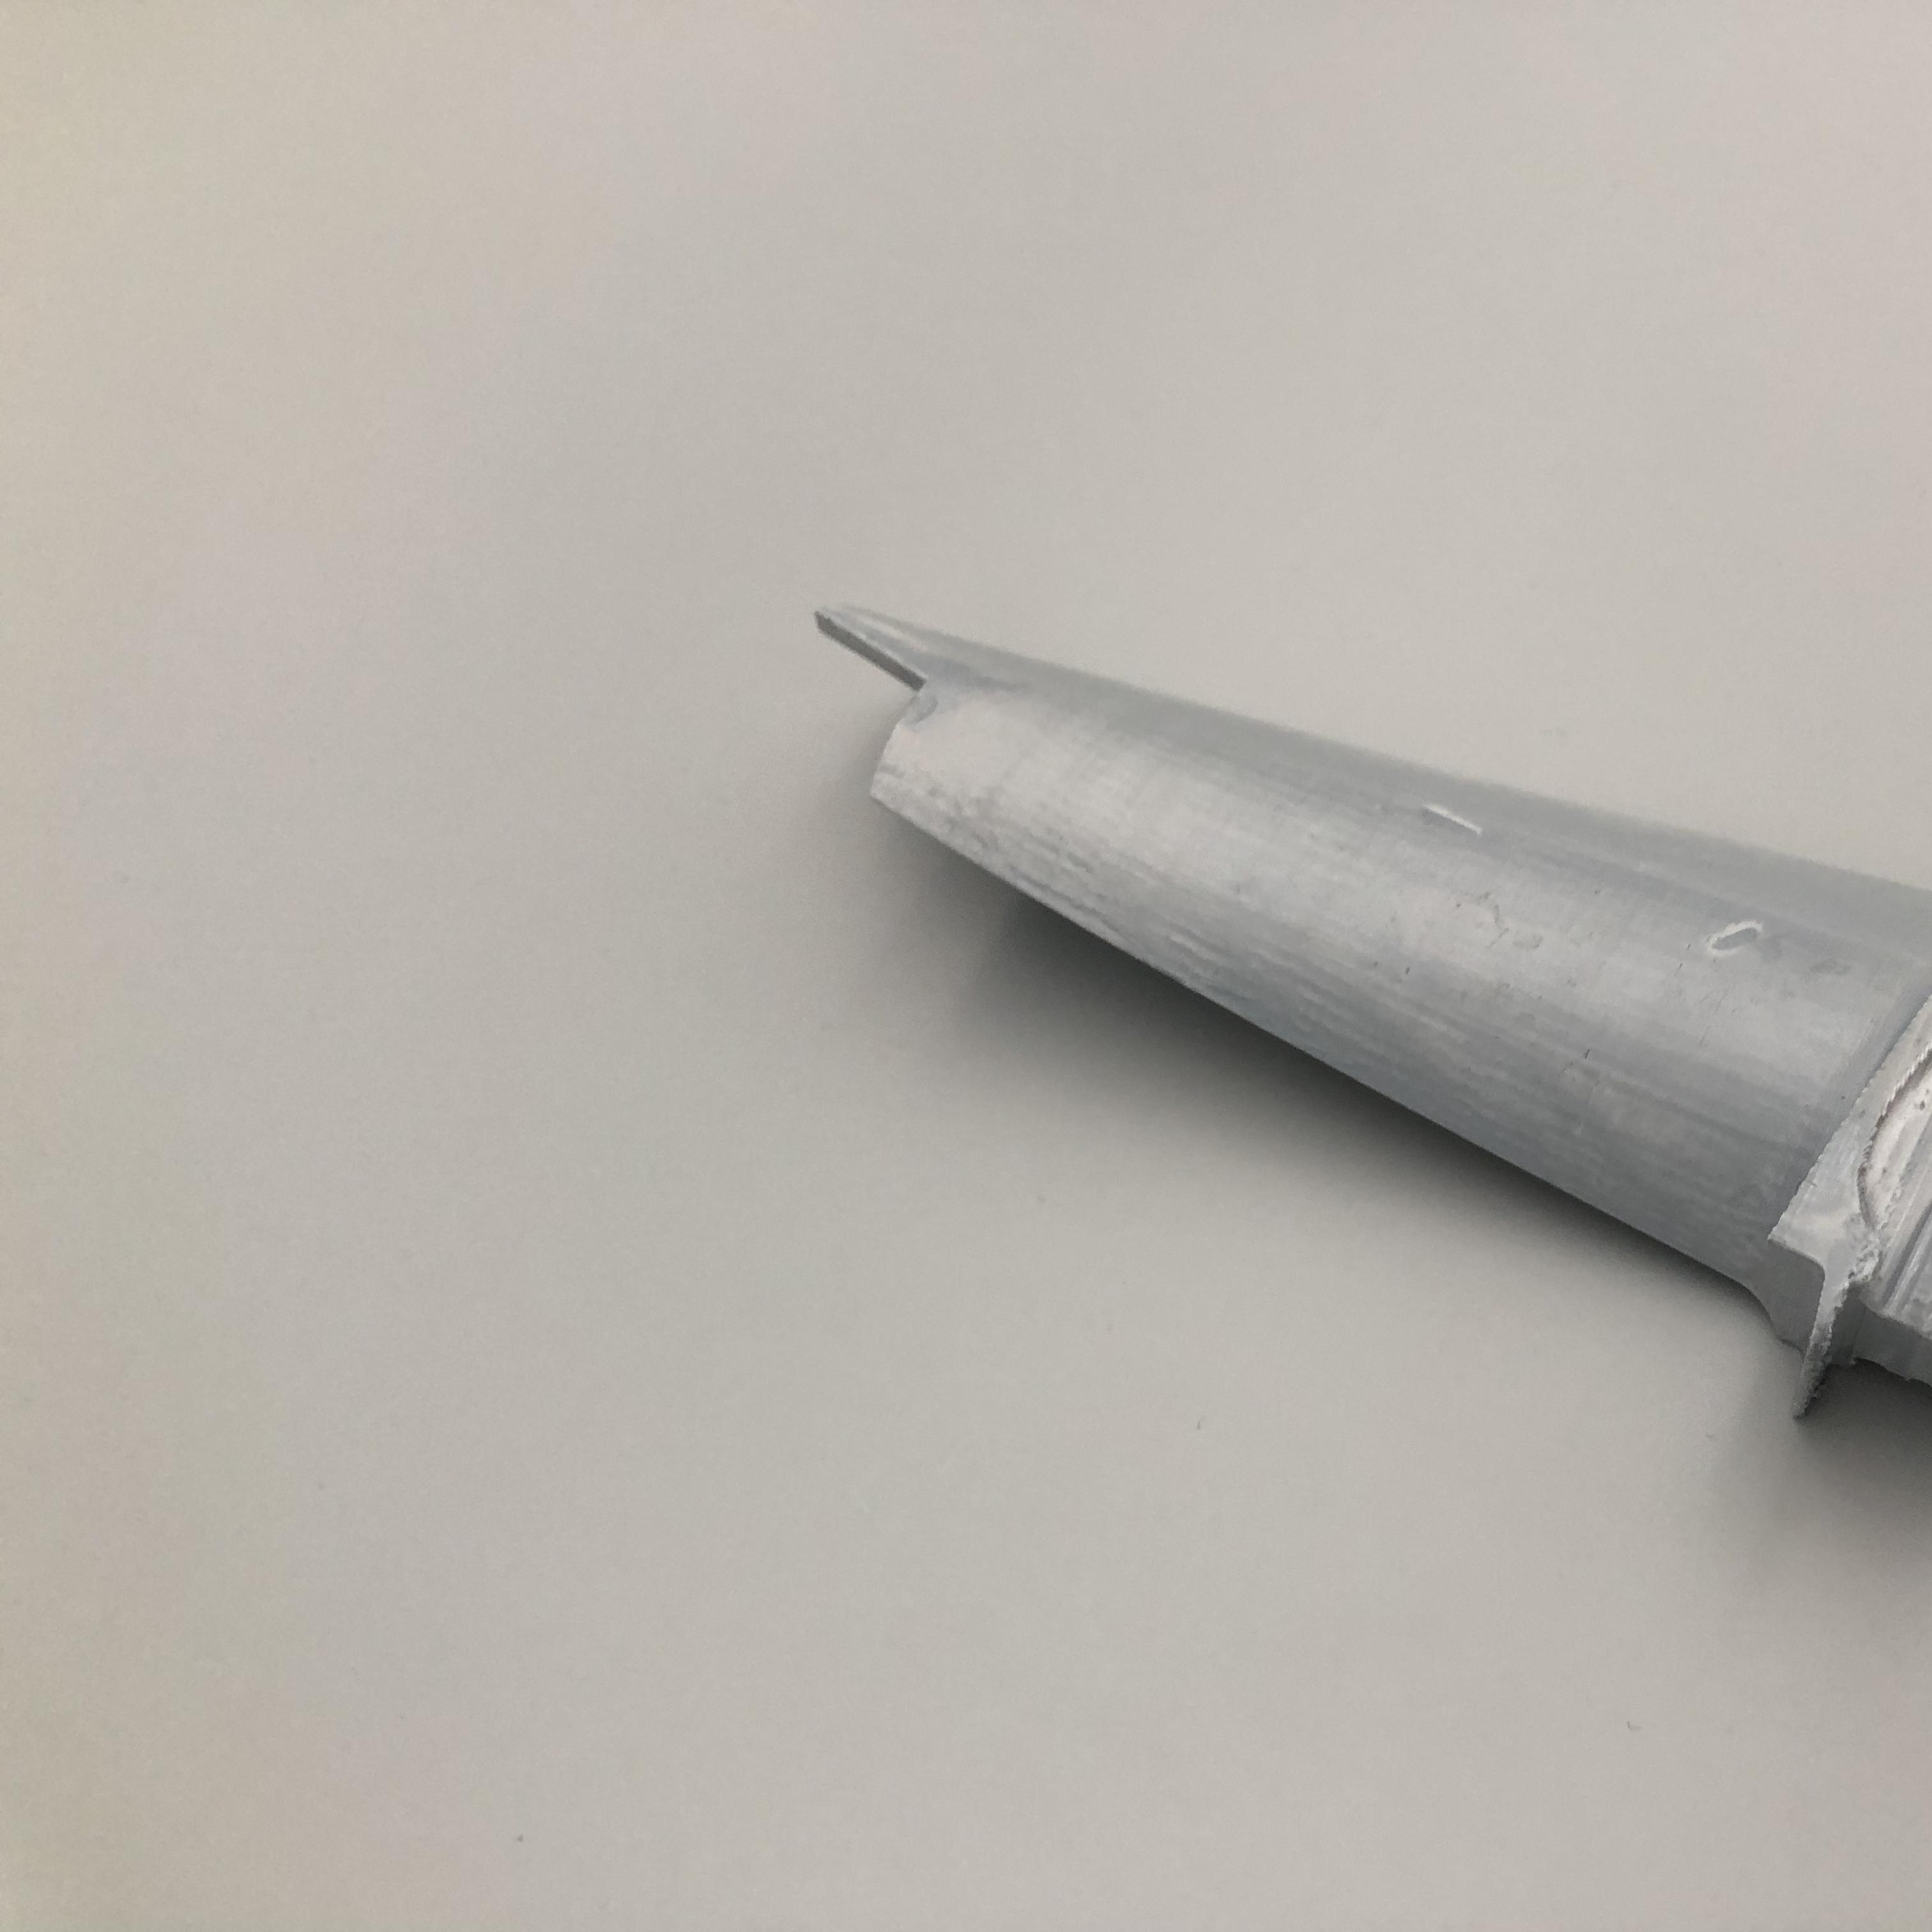fracture: (807, 598, 952, 817)
